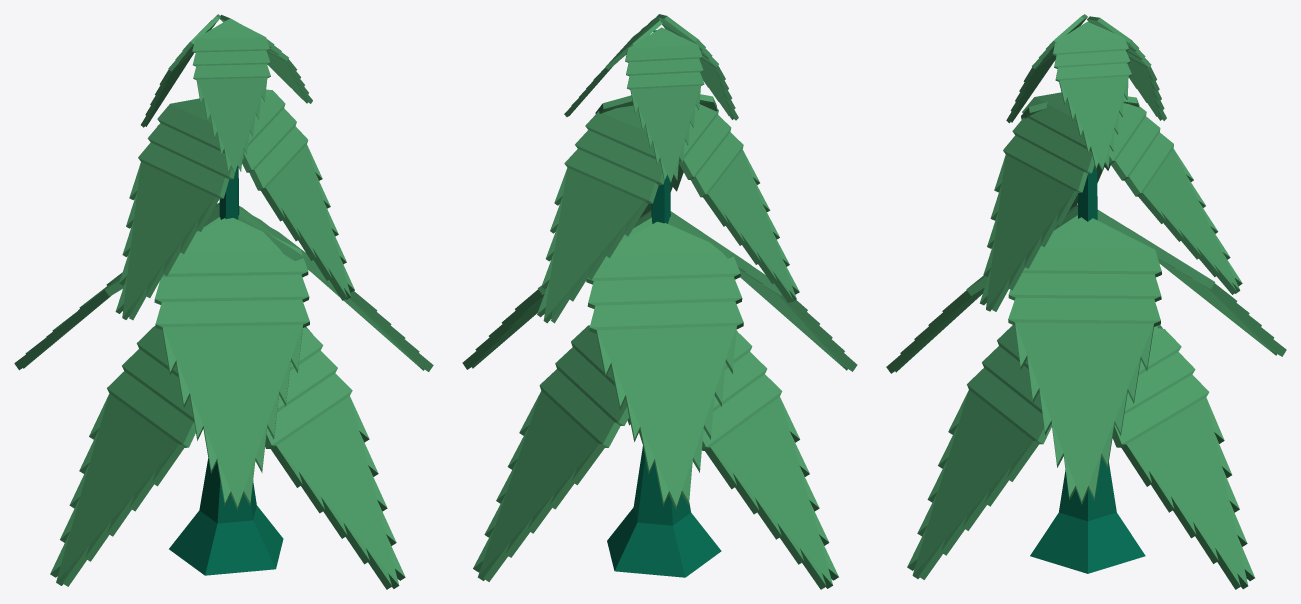
The model's file is Nettle.fbx.
3 renders of one model, left to right at view 1: azimuth 30°, elevation 25°; view 2: azimuth 150°, elevation 25°; view 3: azimuth 270°, elevation 25°, orthographic.
Visible parts, largest first — view 1: Nettle; view 2: Nettle; view 3: Nettle.
Part boxes in pixels (left/top/right/bottom): Nettle: left=14, top=14, right=433, bottom=589; Nettle: left=462, top=14, right=857, bottom=589; Nettle: left=886, top=14, right=1286, bottom=589.
Size of the model in its own units: 0.6284 by 0.6603 by 0.9176.
